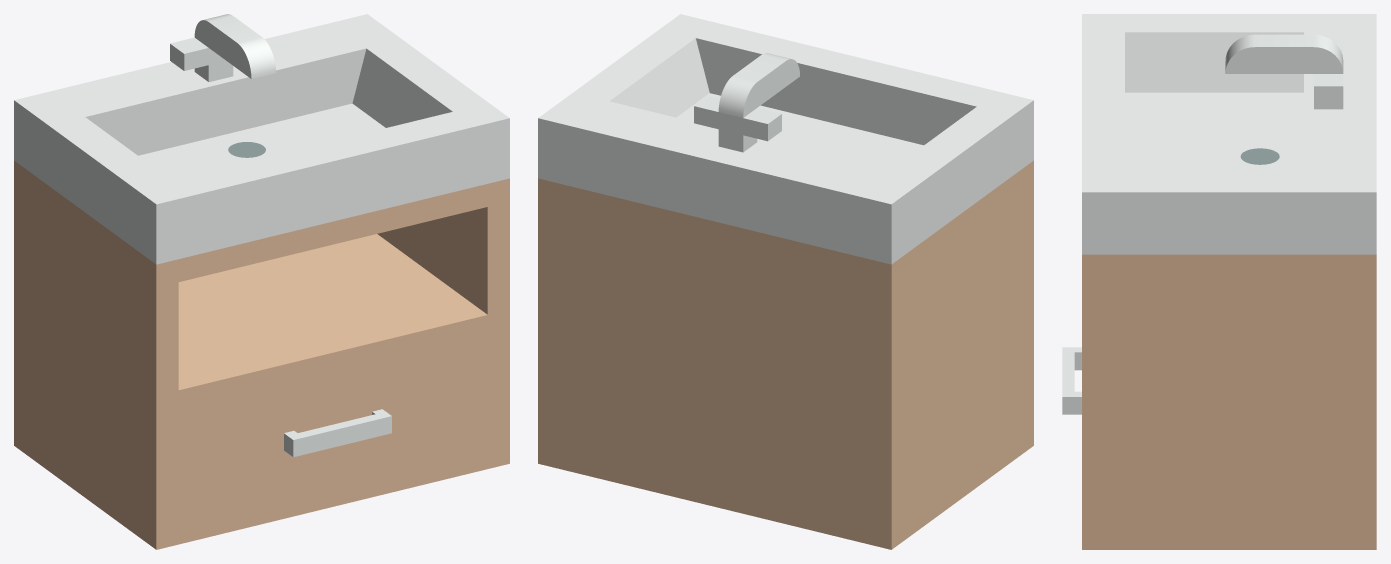
File: Bathroom_Sink.glb
3 views of the same model, side by side, from view 1: azimuth 30°, elevation 25°; view 2: azimuth 150°, elevation 25°; view 3: azimuth 270°, elevation 25° (orthographic). The views are drawn at different scales.
Parts seen in each view (by area): view 1: Bathroom_Sink; view 2: Bathroom_Sink; view 3: Bathroom_Sink.
Boxes of the visible parts, left/top/right/bottom form: Bathroom_Sink: left=14, top=14, right=509, bottom=549; Bathroom_Sink: left=538, top=14, right=1033, bottom=549; Bathroom_Sink: left=1062, top=14, right=1376, bottom=549.
Size of the model in its own units: 0.43 by 0.4718 by 0.32.
